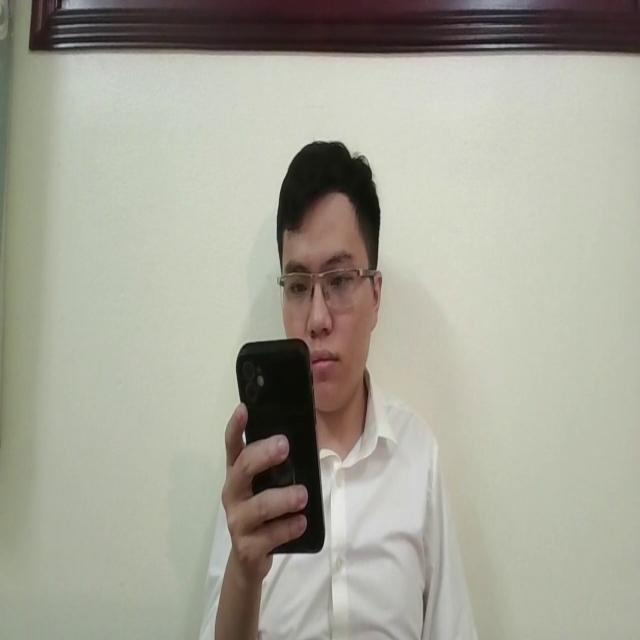phone: (234, 333, 329, 556)
student: (199, 138, 482, 640)
